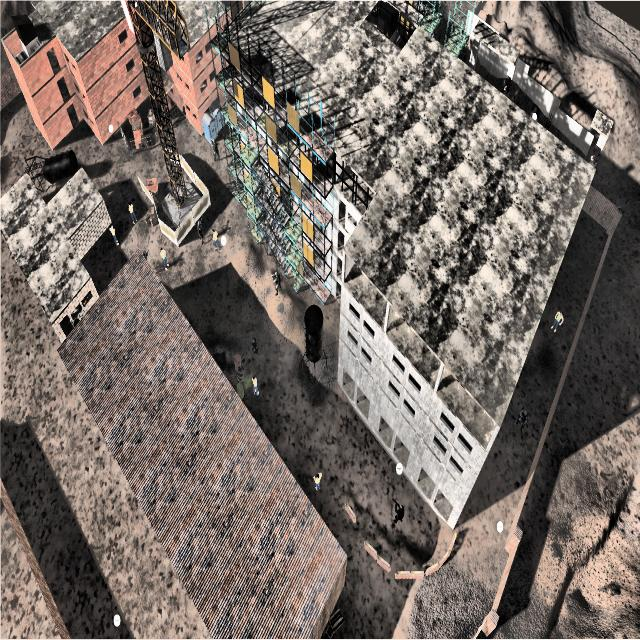bad: (388, 488, 409, 541), (513, 399, 532, 442), (268, 259, 284, 304), (208, 129, 223, 165), (248, 327, 262, 362), (192, 217, 206, 251), (139, 241, 153, 263)
good: (547, 295, 567, 351), (310, 454, 326, 499), (207, 220, 223, 260), (106, 217, 122, 254), (248, 362, 262, 401), (157, 243, 172, 277), (127, 195, 138, 230)
